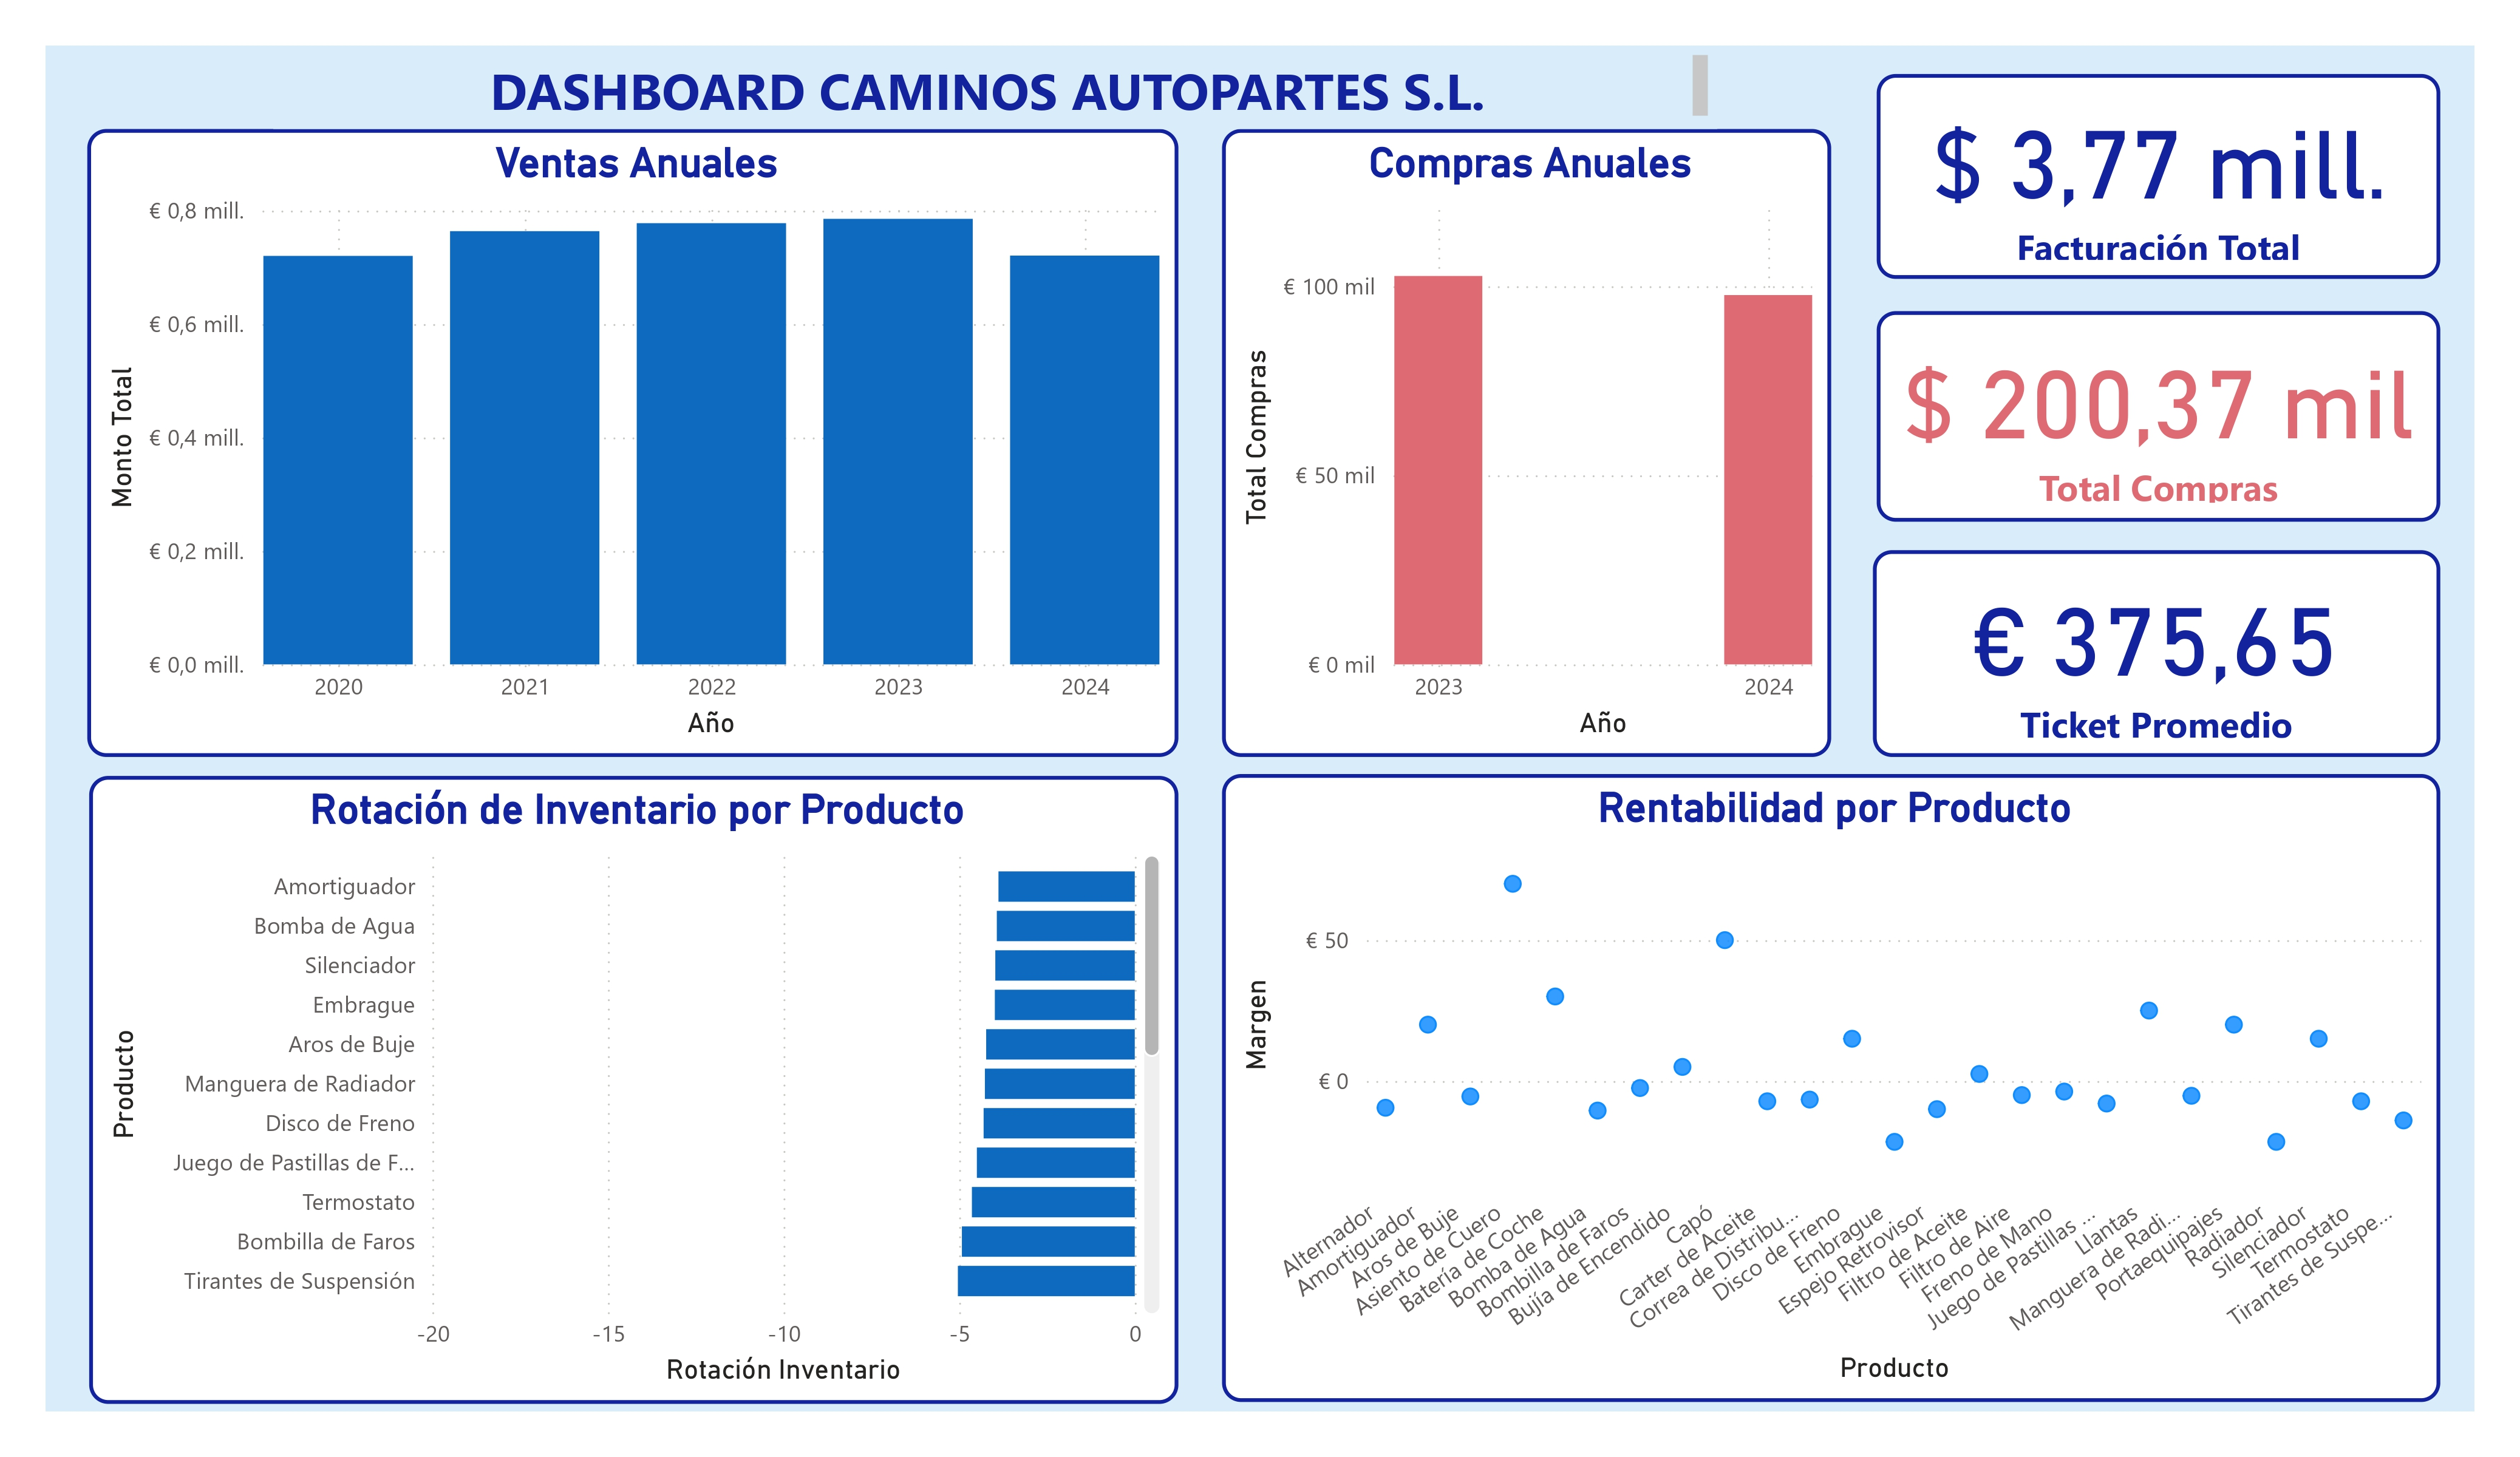

This screenshot's page, from the dashboard's own definition file:
{"tool":"powerbi","page":{"name":"Dashboard simple","canvas":[1280,720],"ordinal":0},"visuals":[{"type":"clusteredColumnChart","title":"Ventas Anuales","fields":{"Category":["ventas2020-2024.AñoVenta"],"Y":["Sum(ventas2020-2024.MontoTotal)"]},"box":[22,43.9,575,330.7],"z":0},{"type":"clusteredColumnChart","title":"Compras Anuales","fields":{"Category":["compras2023-2024.AñoCompra"],"Y":["Sum(compras2023-2024.CostoTotalCompra)"]},"box":[620.2,43.9,321.1,330.7],"z":1000},{"type":"clusteredBarChart","title":"Rotación de Inventario por Producto","fields":{"Category":["productos.NombreProducto"],"Y":["categorias.RotacionInventario"]},"box":[23,385,574,331],"z":2000},{"type":"scatterChart","title":"Rentabilidad por Producto","fields":{"X":["productos.NombreProducto"],"Y":["Sum(productos.MargenProducto)"]},"box":[620.2,384.2,642.2,330.7],"z":3000},{"type":"card","fields":{"Values":["ventas2020-2024.TotalVentas"]},"box":[964.7,15.1,297.8,108.4],"z":3001},{"type":"card","fields":{"Values":["categorias.TotalCompras"]},"box":[964.7,140,297.8,111.1],"z":3002},{"type":"card","fields":{"Values":["ventas2020-2024.TicketPromedio"]},"box":[963.3,266.2,299.1,108.4],"z":3003},{"type":"textbox","box":[120,0,761.4,44.3],"z":3004}]}

Visuals, with their boxes in screenshot pixels (x1, y1, x2, y2):
"Ventas Anuales" clusteredColumnChart: [100,135,1177,754]
"Compras Anuales" clusteredColumnChart: [1221,135,1822,754]
"Rotación de Inventario por Producto" clusteredBarChart: [102,773,1177,1393]
"Rentabilidad por Producto" scatterChart: [1221,772,2423,1391]
card - ventas2020-2024.TotalVentas: [1865,81,2423,284]
card - categorias.TotalCompras: [1865,314,2423,523]
card - ventas2020-2024.TicketPromedio: [1863,551,2423,754]
textbox: [284,52,1710,135]
